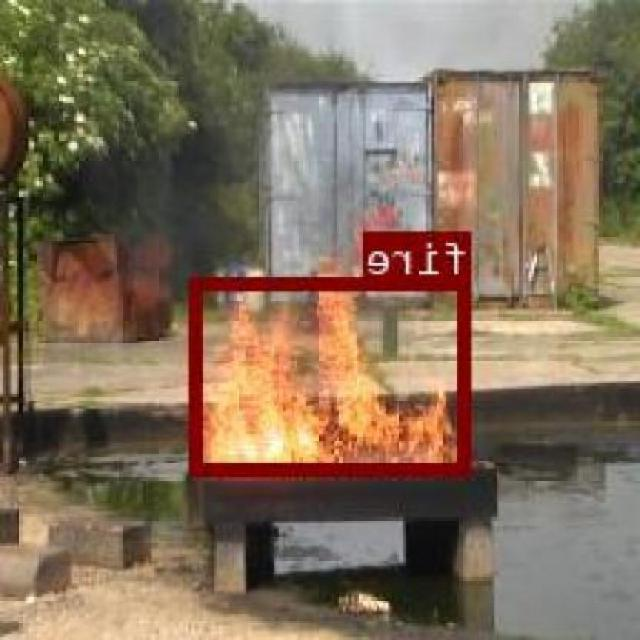Fire: (194, 274, 474, 474)
